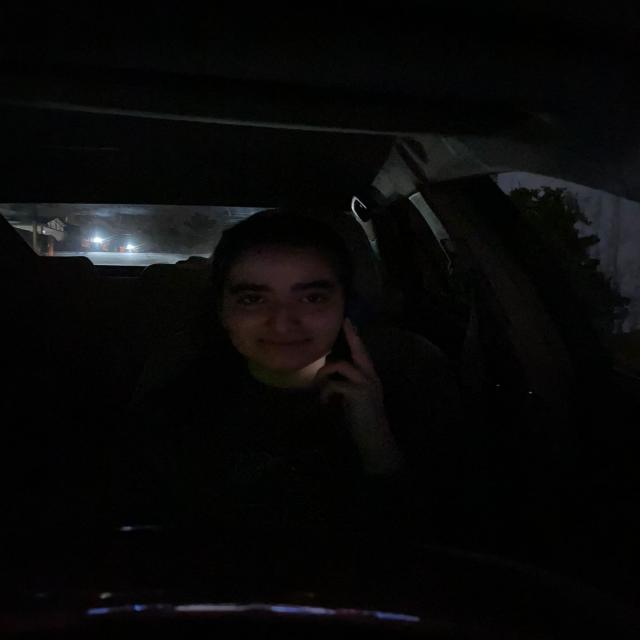person: (203, 204, 375, 375)
